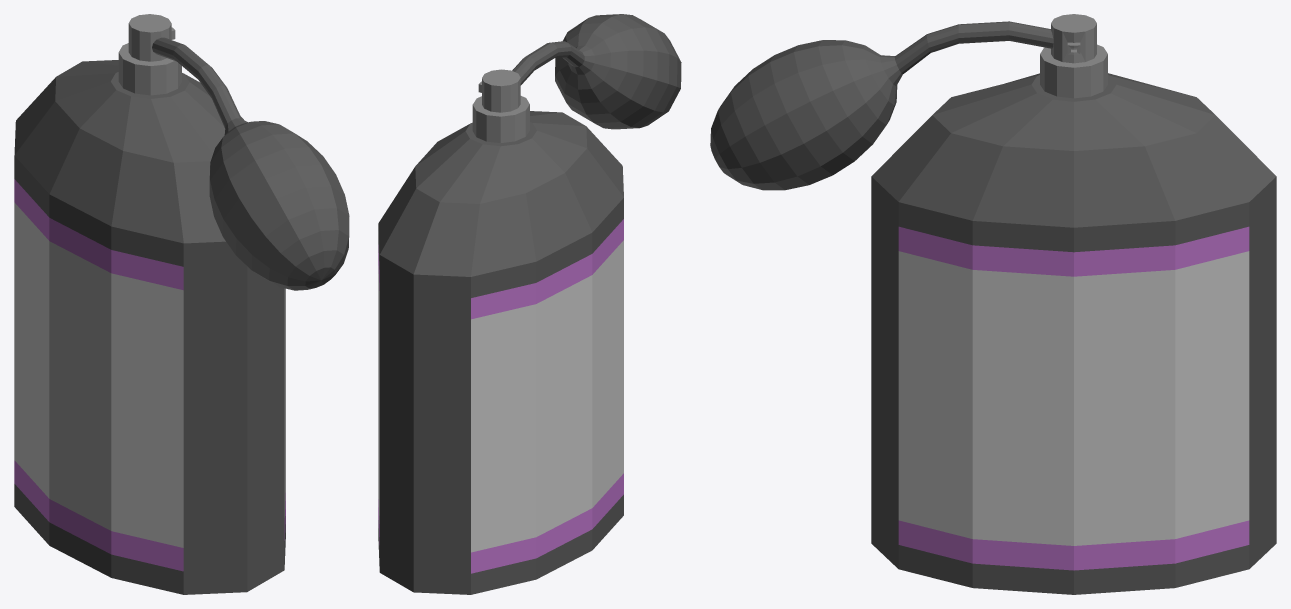
The model's file is Cologne Bottle.fbx.
3 views of the same model, side by side, from view 1: azimuth 30°, elevation 25°; view 2: azimuth 150°, elevation 25°; view 3: azimuth 270°, elevation 25° (orthographic). The views are drawn at different scales.
Visible parts, largest first — view 1: Cologne Bottle; view 2: Cologne Bottle; view 3: Cologne Bottle.
Part boxes in pixels (left/top/right/bottom): Cologne Bottle: left=14, top=14, right=349, bottom=594; Cologne Bottle: left=378, top=14, right=681, bottom=594; Cologne Bottle: left=710, top=14, right=1276, bottom=594.
Bounding box in the file's own units: 36 × 85.18 × 83.84.
